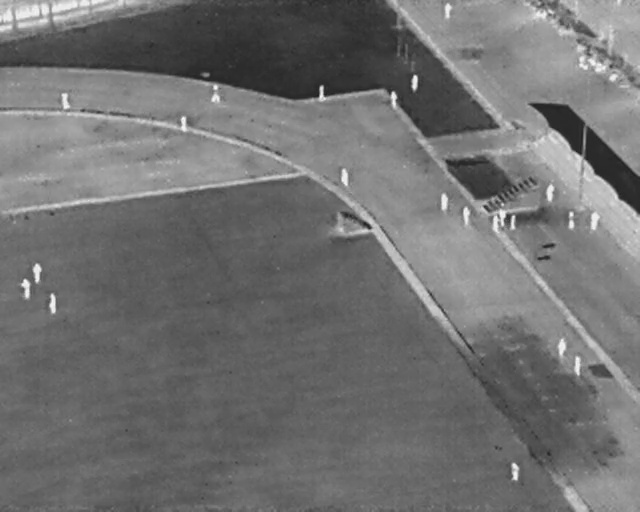DontCare: (572, 38, 625, 84)
Person: (58, 90, 72, 111), (587, 210, 601, 231), (556, 337, 567, 360), (21, 279, 32, 299), (211, 84, 221, 104), (33, 263, 42, 283), (546, 184, 555, 204), (49, 293, 57, 315), (511, 462, 520, 481), (462, 207, 471, 226), (574, 356, 582, 376), (568, 210, 576, 230), (390, 91, 398, 111), (444, 3, 453, 20), (440, 193, 448, 211), (341, 168, 349, 186), (180, 115, 188, 132), (492, 216, 500, 233), (411, 74, 418, 93), (509, 215, 516, 231), (500, 209, 506, 226)
